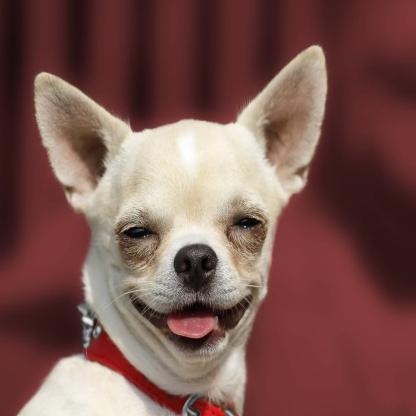Chihuahua: (10, 16, 336, 416)
